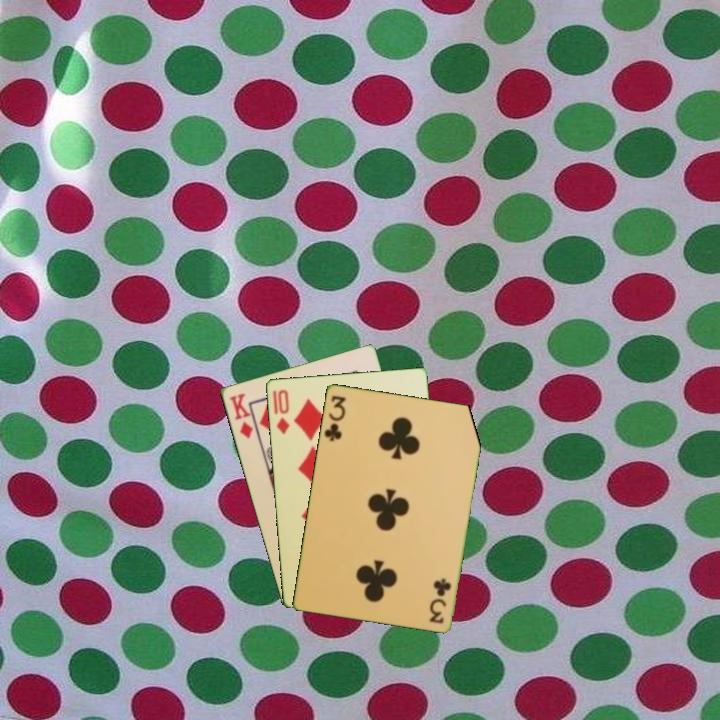10d: (272, 386, 292, 437)
3c: (320, 391, 349, 444), (426, 574, 454, 626)
Kd: (226, 389, 255, 441)
